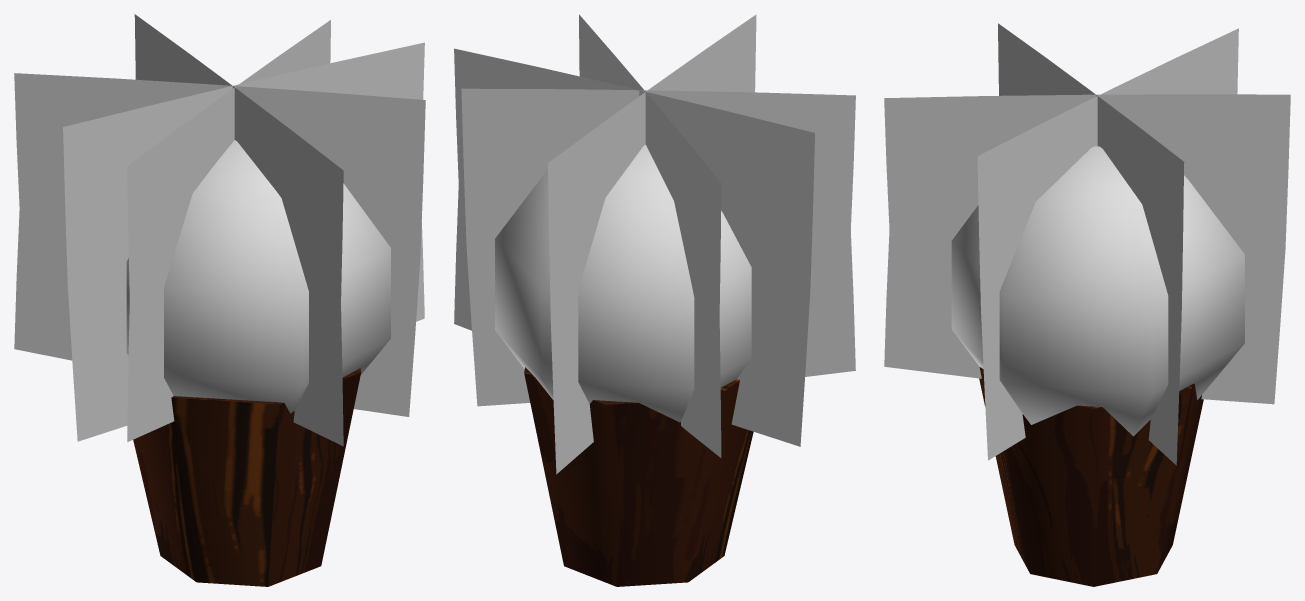
Rendered from SM_PROP_PLANT_pot_v6_01.fbx.
3 views of the same model, side by side, from view 1: azimuth 30°, elevation 25°; view 2: azimuth 150°, elevation 25°; view 3: azimuth 270°, elevation 25° (orthographic). The views are drawn at different scales.
Parts seen in each view (by area): view 1: SM_PROP_PLANT_pot_v6_01; view 2: SM_PROP_PLANT_pot_v6_01; view 3: SM_PROP_PLANT_pot_v6_01.
Part boxes in pixels (box(x1,y1,x2,y2)): SM_PROP_PLANT_pot_v6_01: box(14, 14, 425, 586); SM_PROP_PLANT_pot_v6_01: box(454, 14, 855, 586); SM_PROP_PLANT_pot_v6_01: box(884, 23, 1290, 586).
Size of the model in its own units: 76.39 by 94.27 by 76.39.
